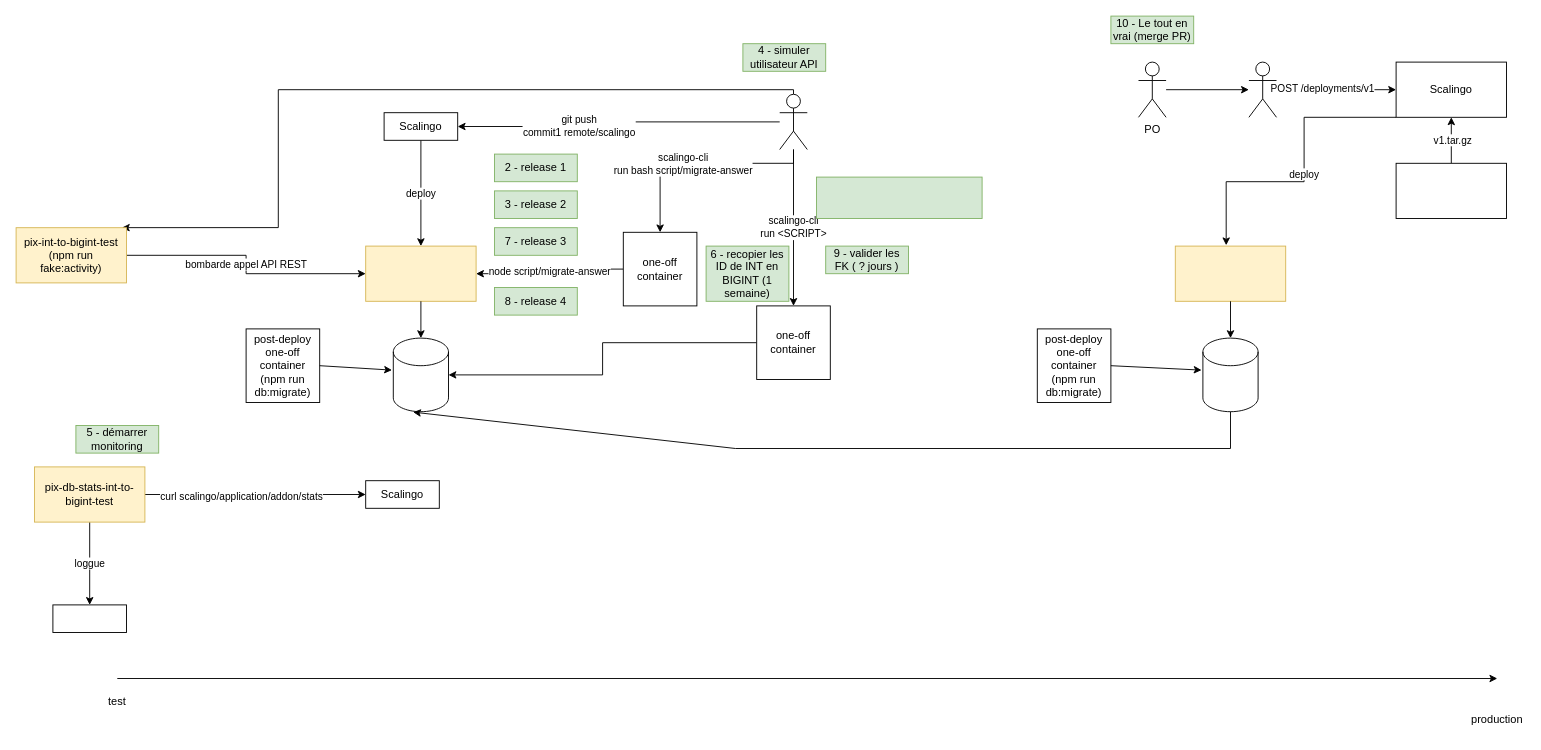
The diagram is 1541 pixels wide and 750 high, and some of its shapes have lost their labels. Here are the shapes that lost their labels. From the top down, the centre of each, then its label:
At (x=1262, y=89): "PixBot".
At (x=793, y=121): "DEV".
At (x=899, y=197): "1 - import dump BDD production via script (1 jour)".
At (x=1450, y=190): "Github".
At (x=420, y=273): "pix-int-to-bigint-test (npm start)".
At (x=1230, y=273): "pix-api-production (npm start)".
At (x=420, y=374): "BDD".
At (x=1230, y=374): "BDD production".
At (x=89, y=618): "Datadog".
